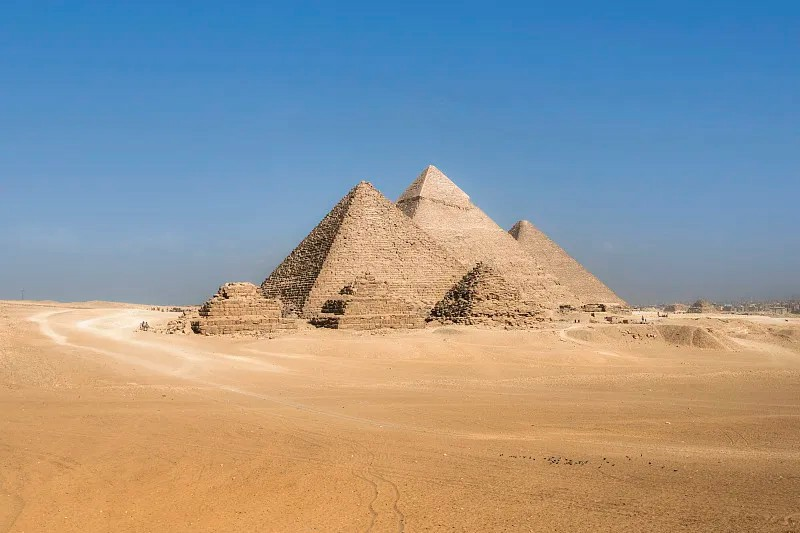Pyramid: (261, 181, 469, 318), (395, 165, 586, 311), (509, 220, 635, 312), (432, 264, 544, 322), (312, 273, 426, 329), (189, 281, 294, 333)
